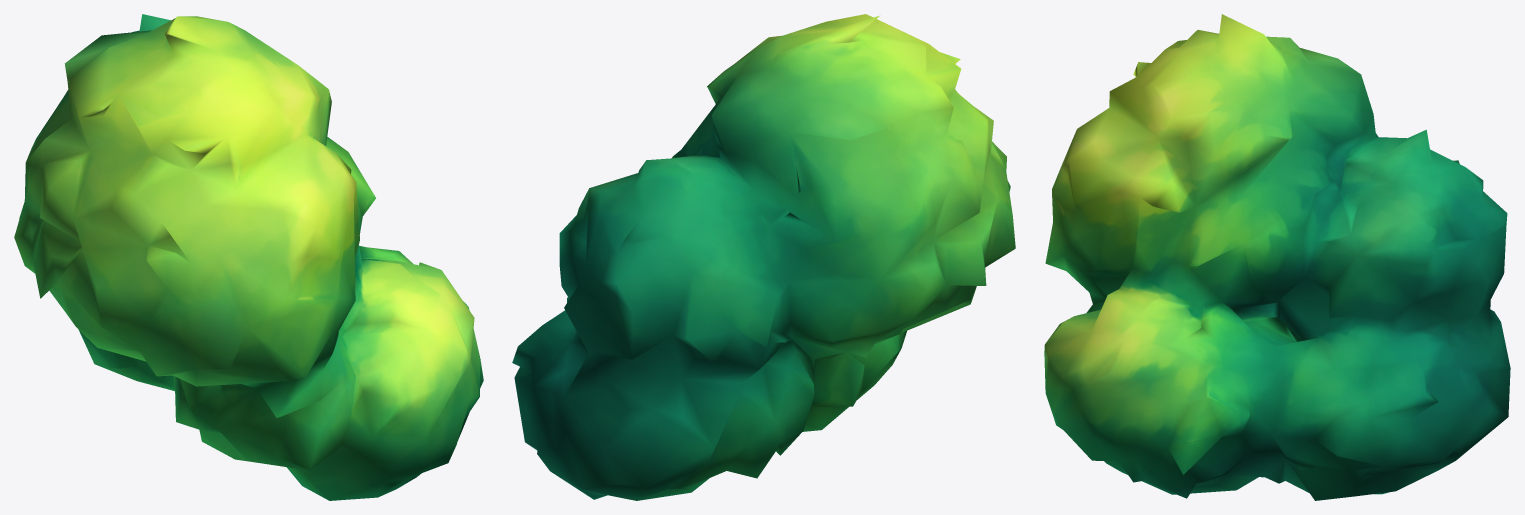
The model's file is model_raw.glb.
The picture shows the model from 3 angles, left to right: view 1: azimuth 30°, elevation 25°; view 2: azimuth 150°, elevation 25°; view 3: azimuth 270°, elevation 25°; orthographic projection. The views are drawn at different scales.
Visible parts, largest first — view 1: tripo_node_e5764e66-9f37-4c57-8a18-565164da7963; view 2: tripo_node_e5764e66-9f37-4c57-8a18-565164da7963; view 3: tripo_node_e5764e66-9f37-4c57-8a18-565164da7963.
Boxes of the visible parts, x1,y1,x2,y2 form: tripo_node_e5764e66-9f37-4c57-8a18-565164da7963: [14, 14, 483, 500]; tripo_node_e5764e66-9f37-4c57-8a18-565164da7963: [512, 14, 1015, 500]; tripo_node_e5764e66-9f37-4c57-8a18-565164da7963: [1044, 14, 1510, 500].
Size of the model in its own units: 0.8677 by 0.9562 by 1.
1 material, 1 textured.
